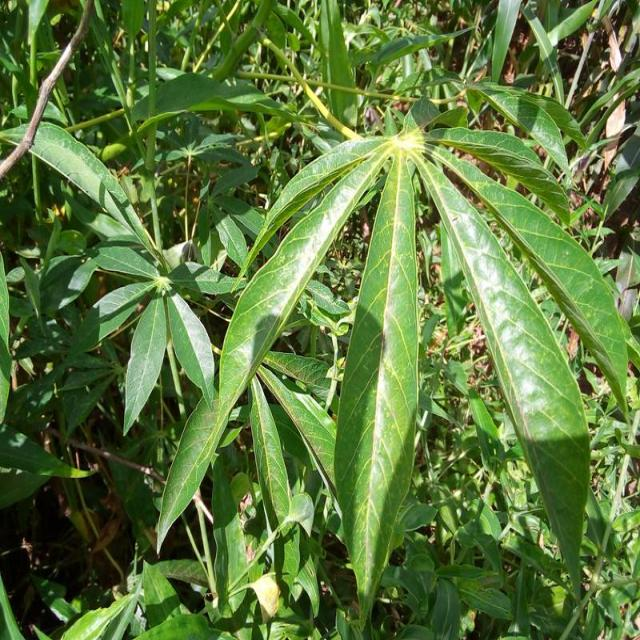cassava leaf: (157, 92, 626, 624), (154, 134, 393, 555), (413, 148, 592, 603), (332, 150, 419, 628)
